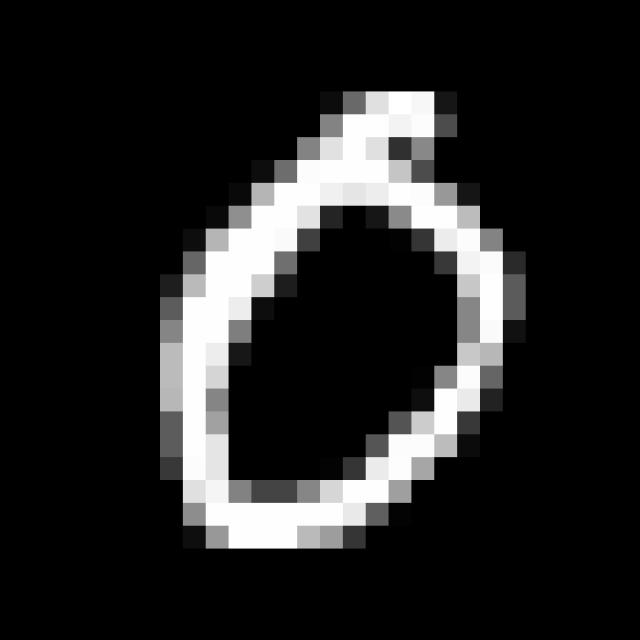zero -0-: (133, 69, 536, 573)
